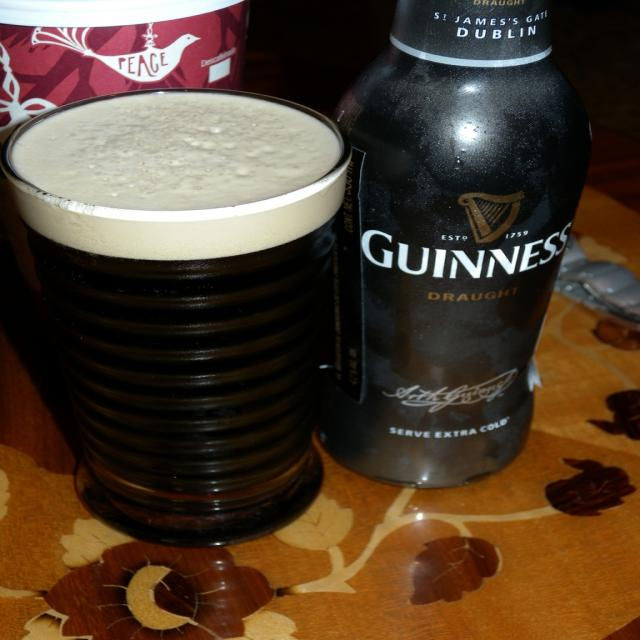guiness: (360, 191, 574, 283)
